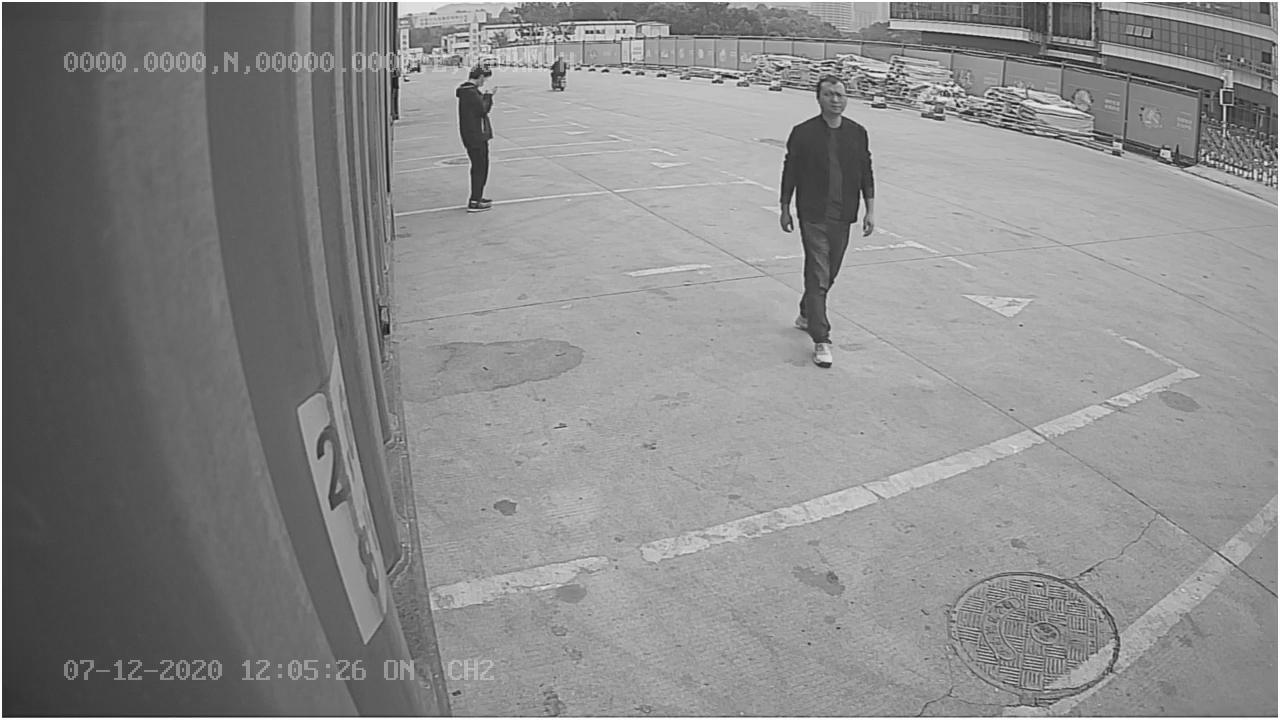person: (774, 72, 886, 368)
